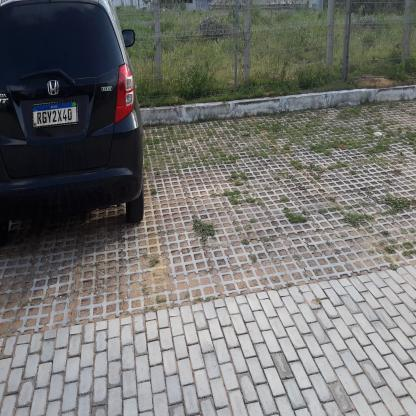PlacaM: (32, 100, 78, 128)
